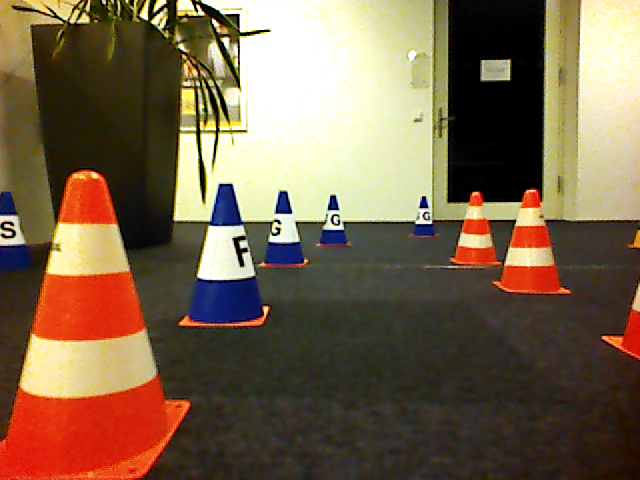bluecone: (179, 183, 268, 330), (259, 189, 311, 269), (316, 194, 354, 247)
orangeconesmall: (3, 167, 194, 480), (451, 191, 503, 267)
